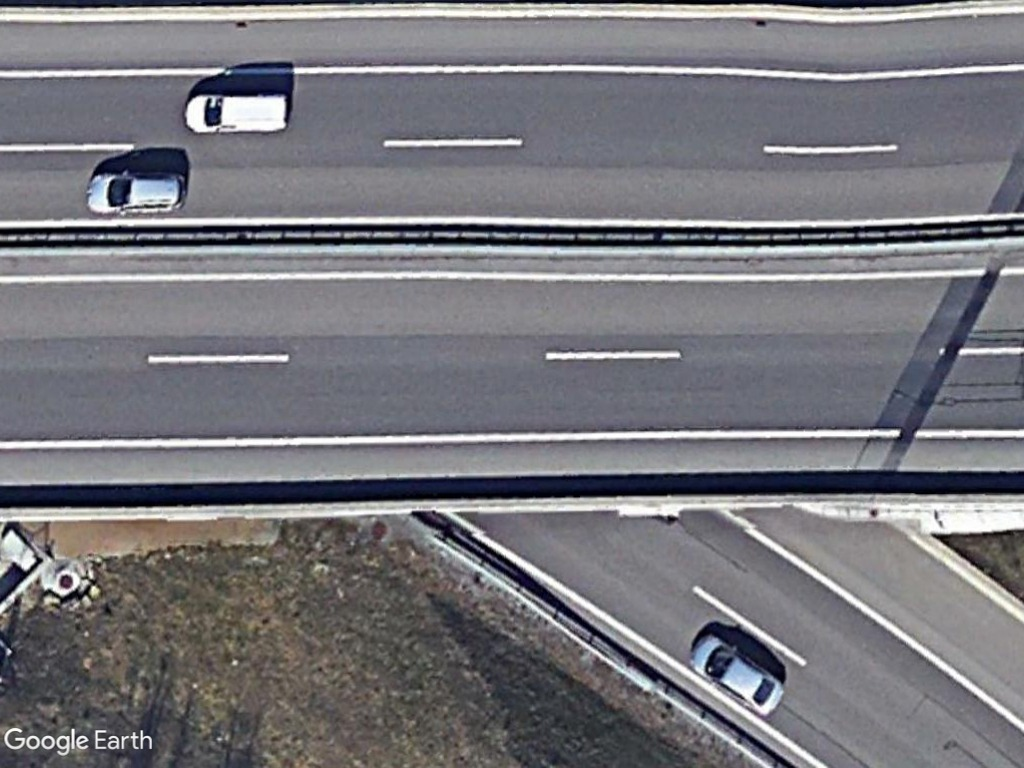car: (687, 627, 786, 721), (82, 171, 190, 214)
van: (181, 93, 290, 134)
